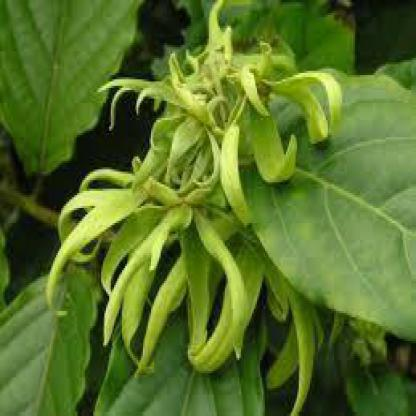Kenanga: (83, 140, 256, 353), (138, 22, 327, 177)
